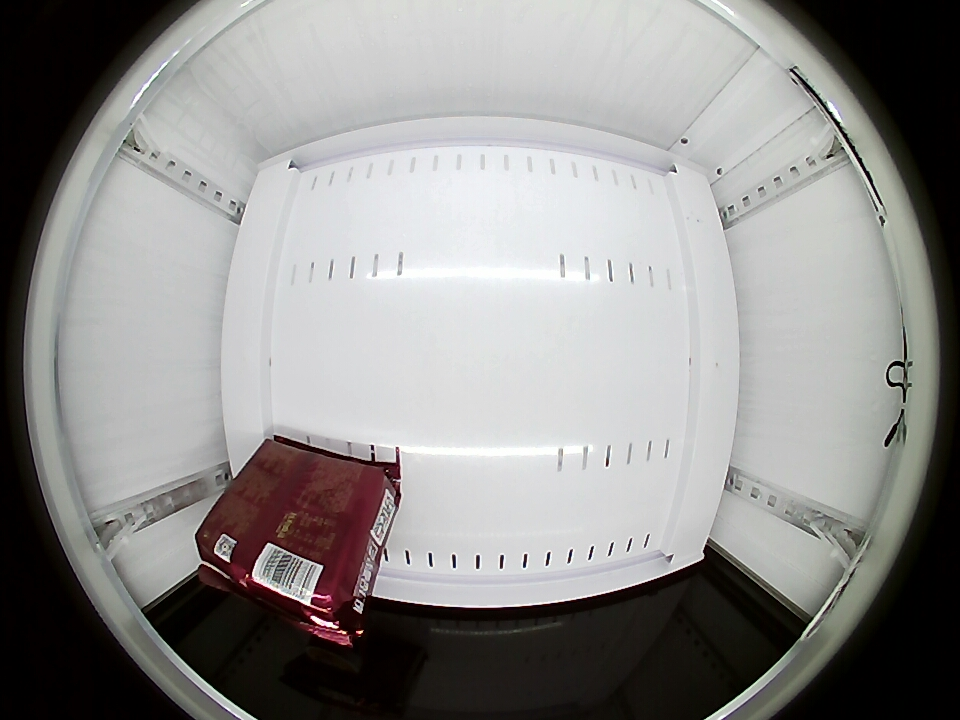haochidian: (197, 478, 378, 638)
